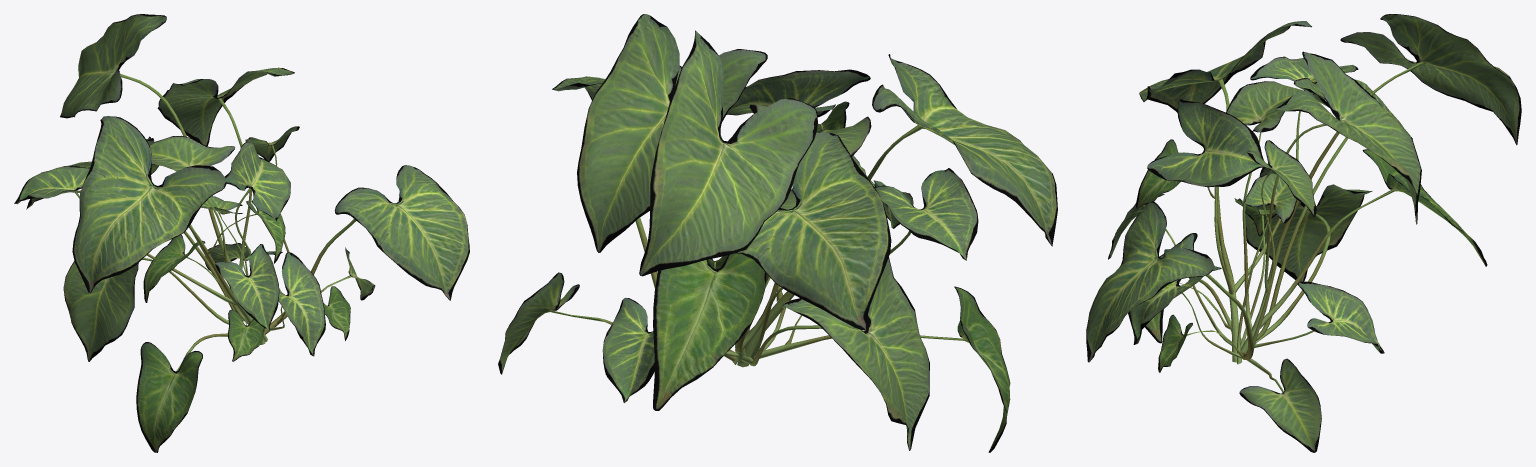
The model's file is tropical.glb.
3 views of the same model, side by side, from view 1: azimuth 30°, elevation 25°; view 2: azimuth 150°, elevation 25°; view 3: azimuth 270°, elevation 25° (orthographic). The views are drawn at different scales.
Visible parts, largest first — view 1: potted_plant_02_leaves; view 2: potted_plant_02_leaves; view 3: potted_plant_02_leaves.
Part boxes in pixels (x1=…): potted_plant_02_leaves: x1=14, y1=14, x2=469, y2=452; potted_plant_02_leaves: x1=498, y1=14, x2=1057, y2=452; potted_plant_02_leaves: x1=1086, y1=14, x2=1521, y2=452.
Bounding box in the file's own units: 0.7009 × 0.6325 × 0.6432.
1 material, 1 textured.
